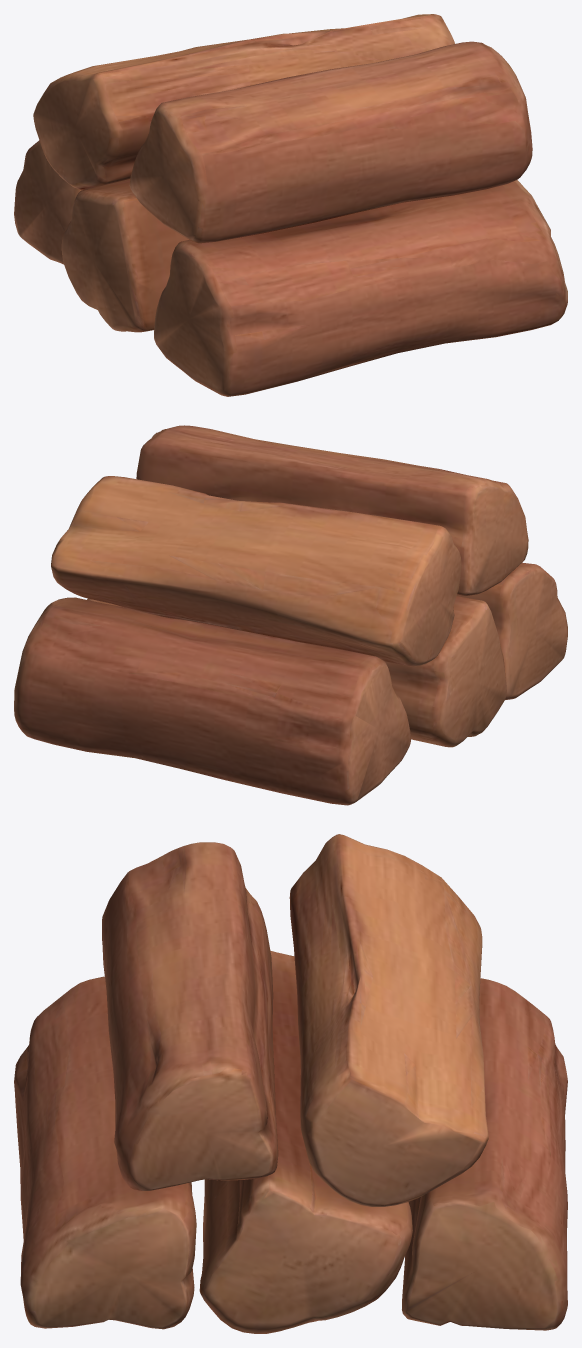
The model's file is logs.glb.
The picture shows the model from 3 angles, top to bottom: view 1: azimuth 30°, elevation 25°; view 2: azimuth 150°, elevation 25°; view 3: azimuth 270°, elevation 25°; orthographic projection. The views are drawn at different scales.
Visible parts, largest first — view 1: Model; view 2: Model; view 3: Model.
Part boxes in pixels (x1,y1,x2,y2): Model: (14, 14, 567, 396); Model: (14, 425, 567, 805); Model: (14, 834, 567, 1333).
Bounding box in the file's own units: 0.9731 × 0.5942 × 0.9995.
Materials: 1 (1 with a texture image).
